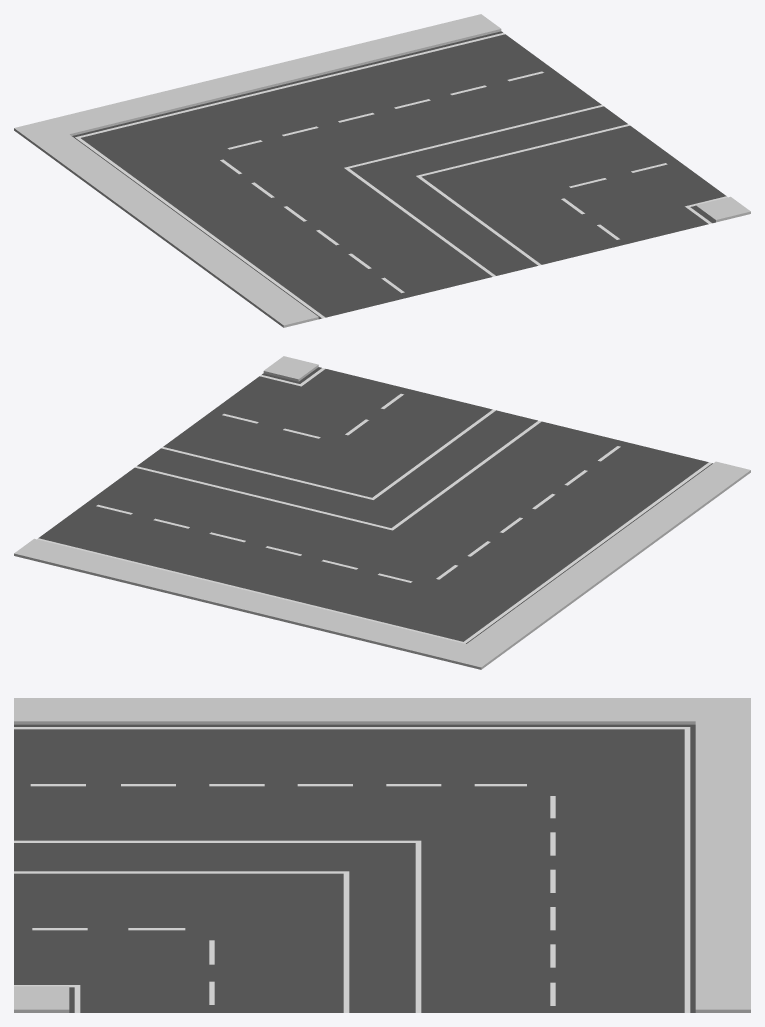
File: SPW_Urban_Road 4way_Corner_02.gltf
3 renders of one model, top to bottom at view 1: azimuth 30°, elevation 25°; view 2: azimuth 150°, elevation 25°; view 3: azimuth 270°, elevation 25°, orthographic. The views are drawn at different scales.
Visible parts, largest first — view 1: SPW_Urban_Road_4way_Corner_02; view 2: SPW_Urban_Road_4way_Corner_02; view 3: SPW_Urban_Road_4way_Corner_02.
Part boxes in pixels (x1,y1,x2,y2): SPW_Urban_Road_4way_Corner_02: (14, 14, 750, 327); SPW_Urban_Road_4way_Corner_02: (14, 356, 750, 669); SPW_Urban_Road_4way_Corner_02: (14, 698, 750, 1012).
Bounding box in the file's own units: 1575 × 7.87 × 1575.
Materials: 1 (1 with a texture image).
